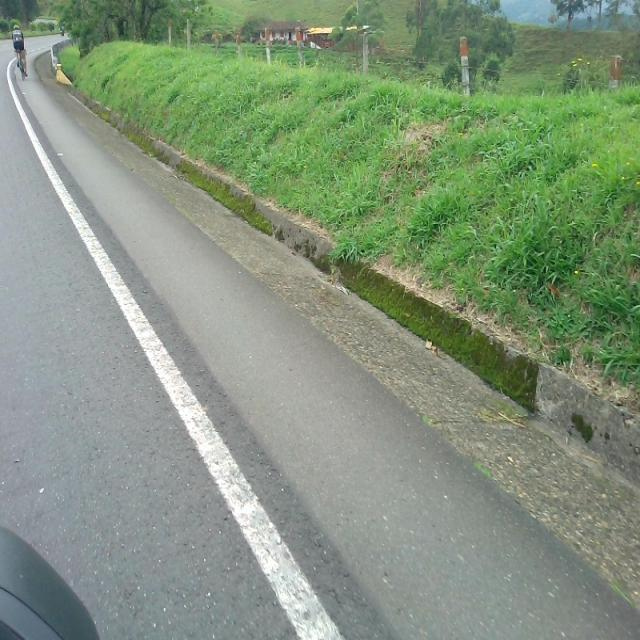DITCH: (5, 38, 638, 637)
